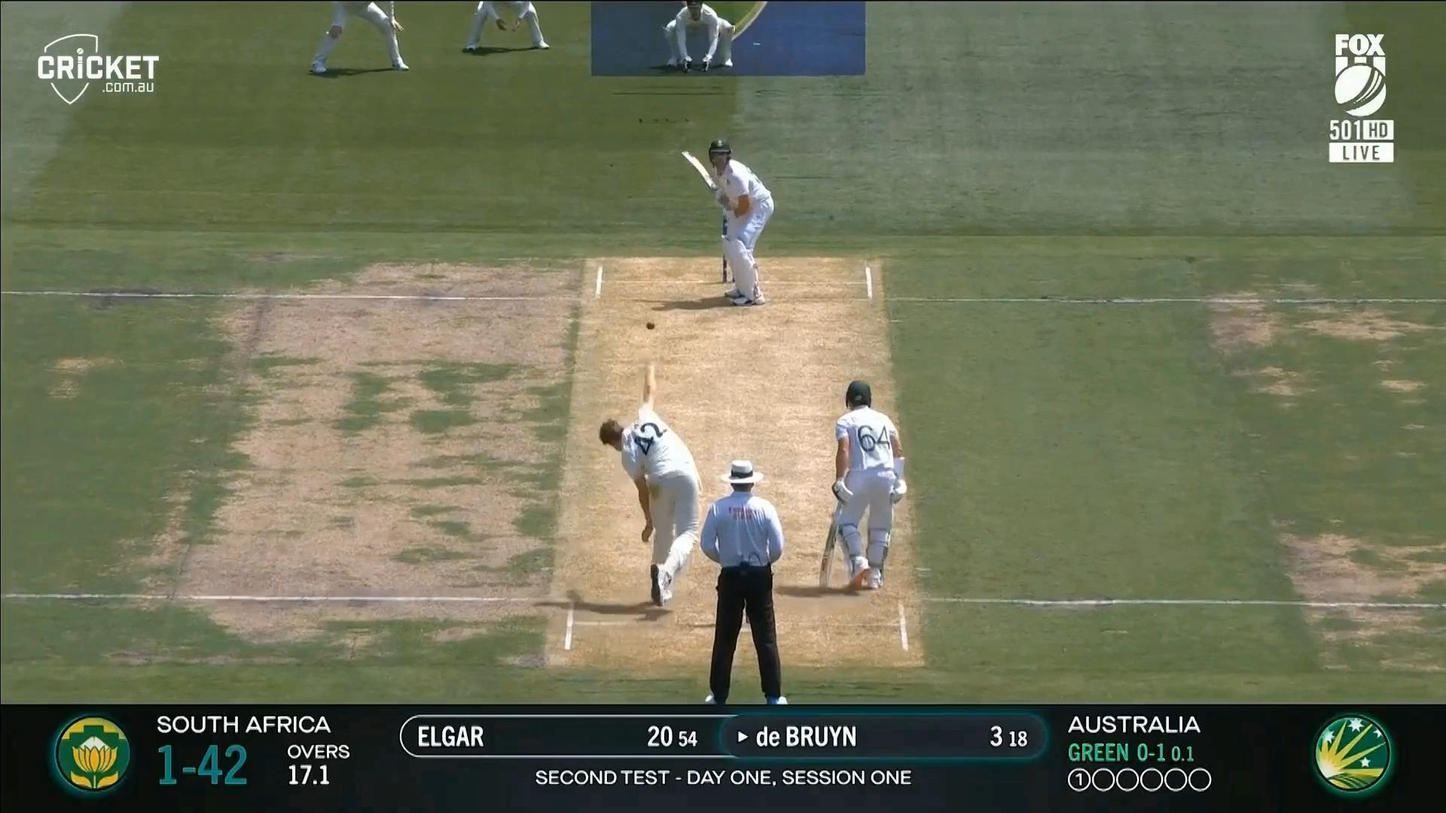BM 1: (679, 137, 776, 307)
BO: (597, 356, 702, 608)
